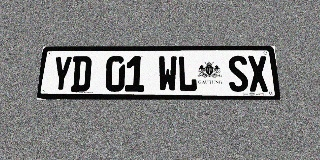0: (105, 56, 125, 92)
1: (125, 56, 145, 92)
D: (70, 56, 92, 92)
L: (178, 56, 197, 92)
S: (227, 56, 249, 92)
W: (158, 56, 177, 92)
X: (247, 56, 269, 92)
Y: (51, 56, 73, 92)
